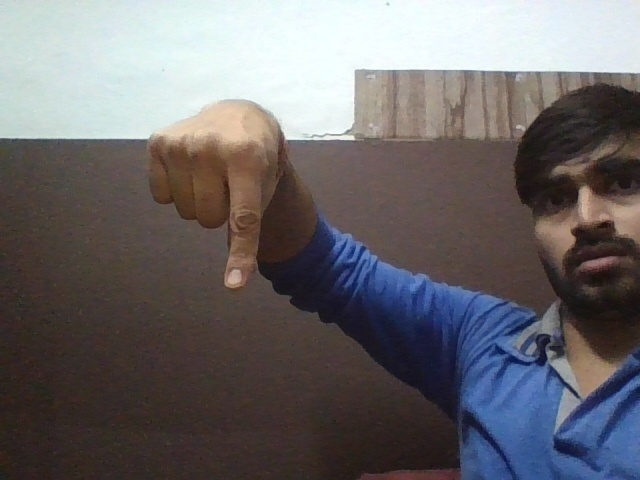Q: (148, 105, 306, 303)
